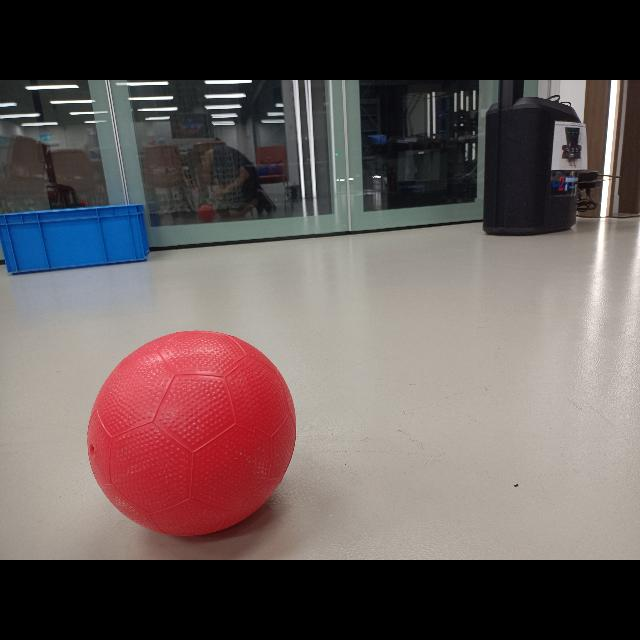R: (87, 330, 297, 536)
